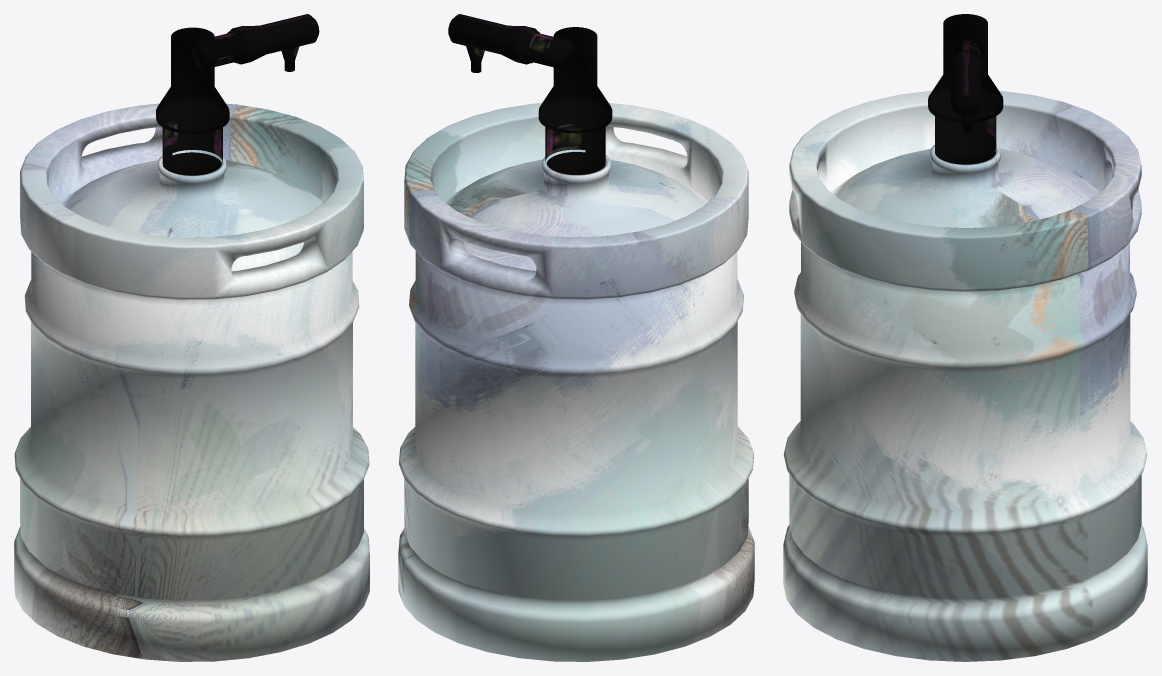
Rendered from keg.glb.
3 renders of one model, left to right at view 1: azimuth 30°, elevation 25°; view 2: azimuth 150°, elevation 25°; view 3: azimuth 270°, elevation 25°, orthographic. The views are drawn at different scales.
Visible parts, largest first — view 1: Keg body, Cylinder.001; view 2: Keg body, Cylinder.001; view 3: Keg body, Cylinder.001.
Part boxes in pixels (x1,y1,x2,y2): Keg body: [14, 103, 369, 661]; Cylinder.001: [156, 14, 319, 175]; Keg body: [398, 103, 754, 661]; Cylinder.001: [448, 14, 612, 174]; Keg body: [783, 90, 1147, 661]; Cylinder.001: [928, 14, 1003, 164].
Bounding box in the file's own units: 0.6078 × 1.03 × 0.6078.
2 materials, 2 textured.
